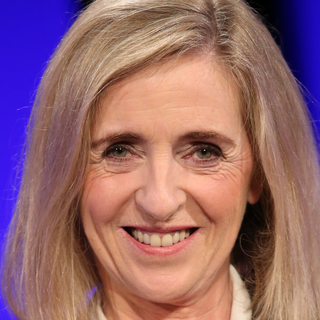eye: (169, 130, 235, 175), (90, 132, 152, 172)
